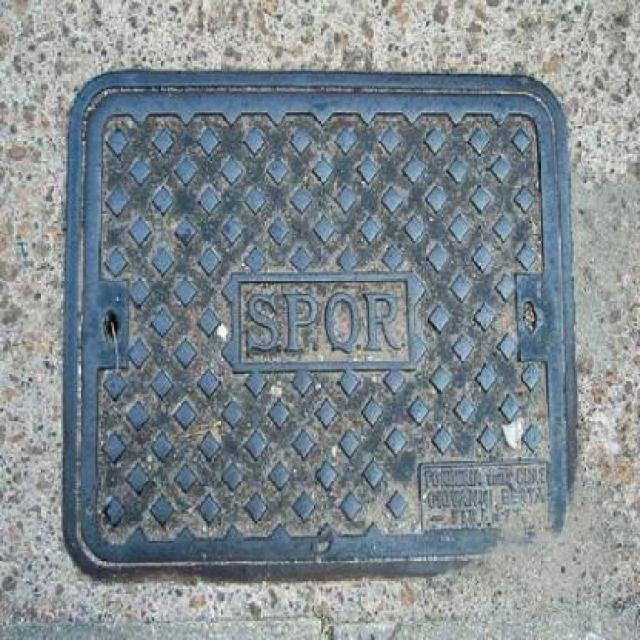Manhole: (55, 60, 582, 585)
